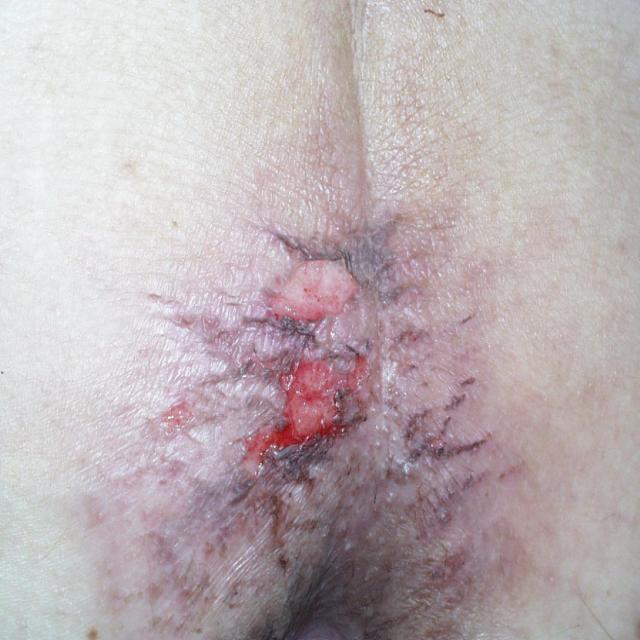stage-2: (241, 353, 369, 475), (270, 258, 359, 324)
